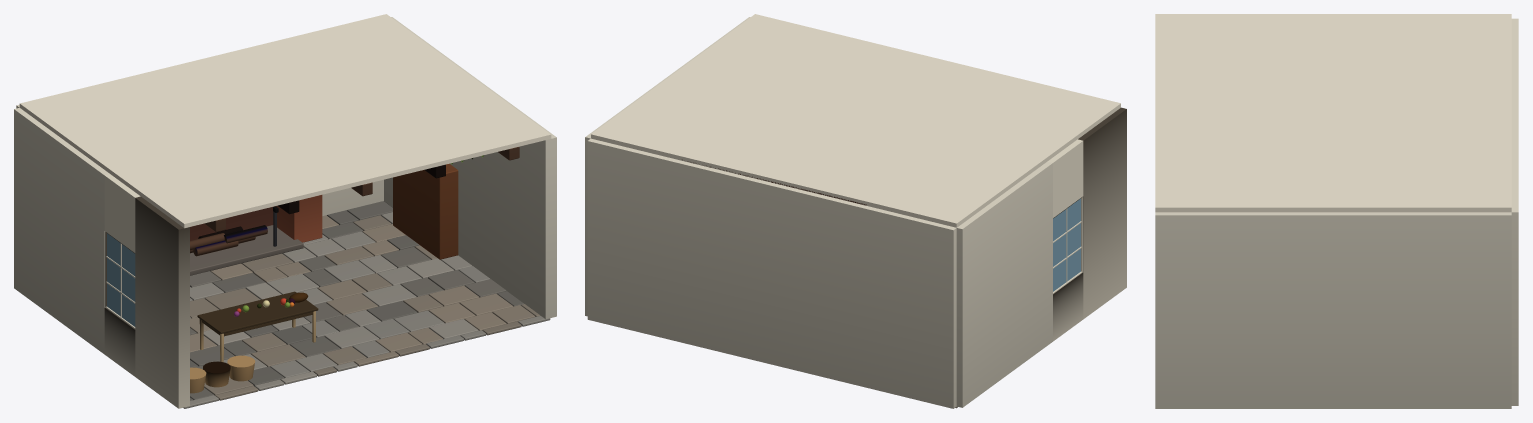
Rendered from kitchen.glb.
3 views of the same model, side by side, from view 1: azimuth 30°, elevation 25°; view 2: azimuth 150°, elevation 25°; view 3: azimuth 270°, elevation 25° (orthographic). The views are drawn at different scales.
Visible parts, largest first — view 1: kitchen.plaster.7, kitchen.plaster.6, kitchen.stone.0, kitchen.stone.2, kitchen.stone.1, kitchen.plank.15, kitchen.plank.17, kitchen.bark.8, kitchen.stone.11, kitchen.glass.3, kitchen.plank.24, kitchen.brick.9 (+2 smaller); view 2: kitchen.plaster.6, kitchen.plaster.7, kitchen.glass.3, kitchen.paint.4; view 3: kitchen.plaster.6, kitchen.plaster.7.
Part boxes in pixels (x1=…): kitchen.plaster.7: x1=19, y1=14, x2=551, y2=228; kitchen.plaster.6: x1=14, y1=17, x2=556, y2=408; kitchen.stone.0: x1=190, y1=215, x2=540, y2=400; kitchen.stone.2: x1=183, y1=201, x2=550, y2=408; kitchen.stone.1: x1=190, y1=201, x2=523, y2=400; kitchen.plank.15: x1=393, y1=163, x2=458, y2=259; kitchen.plank.17: x1=197, y1=291, x2=318, y2=362; kitchen.bark.8: x1=190, y1=147, x2=519, y2=256; kitchen.stone.11: x1=190, y1=225, x2=303, y2=275; kitchen.glass.3: x1=107, y1=233, x2=135, y2=326; kitchen.plank.24: x1=190, y1=355, x2=255, y2=393; kitchen.brick.9: x1=274, y1=195, x2=322, y2=242; kitchen.plaster.6: x1=585, y1=17, x2=1126, y2=408; kitchen.plaster.7: x1=591, y1=14, x2=1120, y2=227; kitchen.glass.3: x1=1053, y1=198, x2=1080, y2=291; kitchen.paint.4: x1=1053, y1=197, x2=1082, y2=293; kitchen.plaster.6: x1=1155, y1=18, x2=1518, y2=408; kitchen.plaster.7: x1=1155, y1=14, x2=1511, y2=212.
Size of the model in its own units: 9.28 by 4.36 by 7.14.
